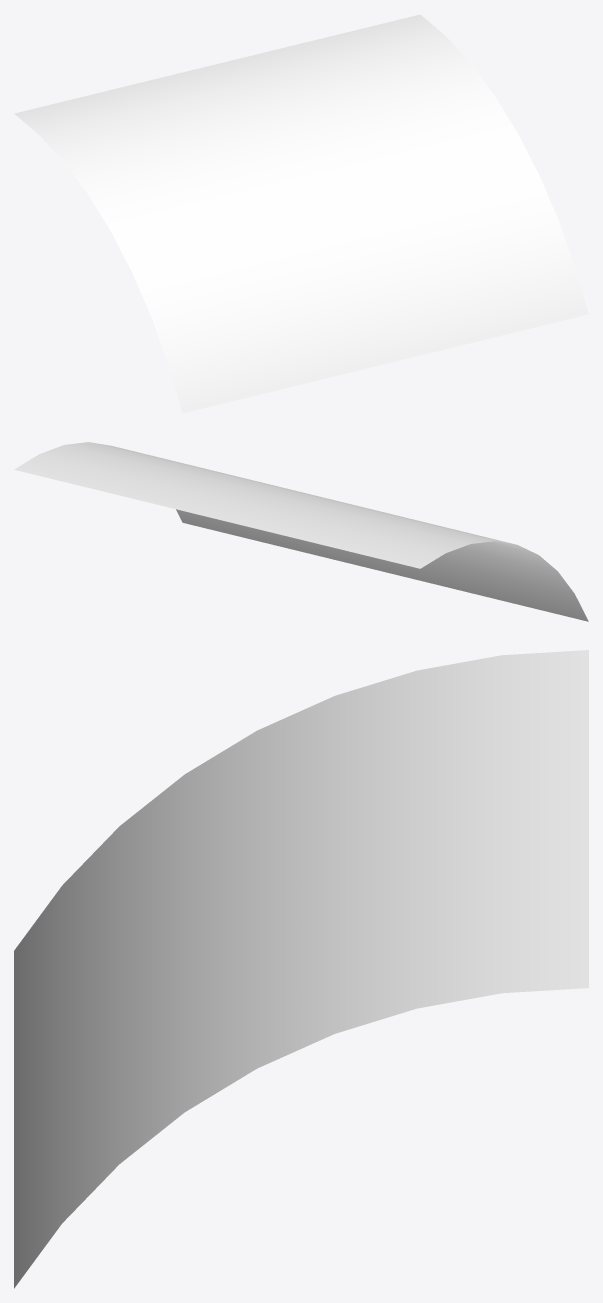
File: grd_If_2.dae
3 views of the same model, one above another, from view 1: azimuth 30°, elevation 25°; view 2: azimuth 150°, elevation 25°; view 3: azimuth 270°, elevation 25° (orthographic). The views are drawn at different scales.
Parts seen in each view (by area): view 1: grd_If_2; view 2: grd_If_2; view 3: grd_If_2.
Part boxes in pixels (x1,y1,x2,y2): grd_If_2: (14,14,588,413); grd_If_2: (14,442,588,621); grd_If_2: (14,650,588,1288).
Size of the model in its own units: 512 by 212 by 368.
1 material, 1 textured.
